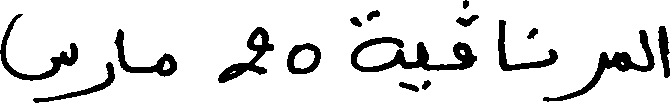0: (284, 41, 321, 74)
2: (217, 24, 269, 83)
ا: (656, 23, 667, 78), (114, 27, 127, 73), (496, 17, 507, 71)
ة: (348, 8, 403, 72)
ر: (557, 50, 607, 101), (77, 37, 114, 96)
س: (0, 12, 76, 85)
ق: (451, 13, 475, 70)
ل: (637, 27, 653, 71)
م: (154, 51, 176, 78), (615, 49, 631, 72)
ن: (527, 28, 558, 71)
ي: (402, 39, 428, 89)
